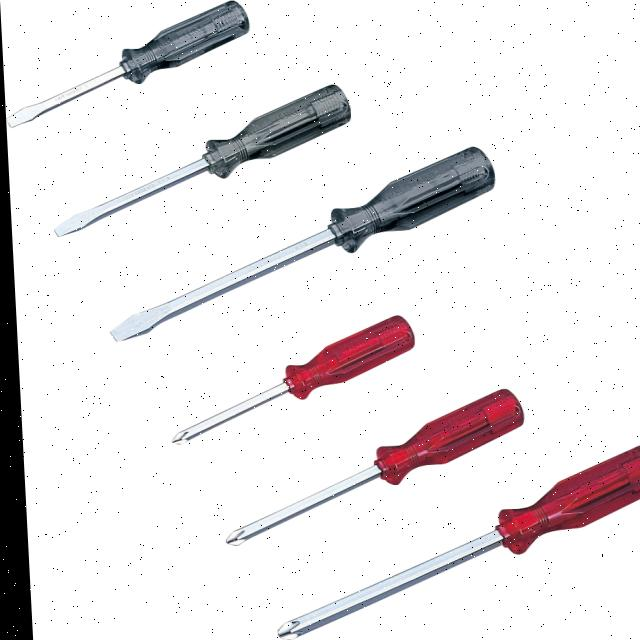Screwdriver: (107, 148, 492, 341), (271, 446, 640, 640), (221, 390, 520, 545), (52, 85, 350, 237), (168, 317, 410, 444), (6, 1, 249, 126)
